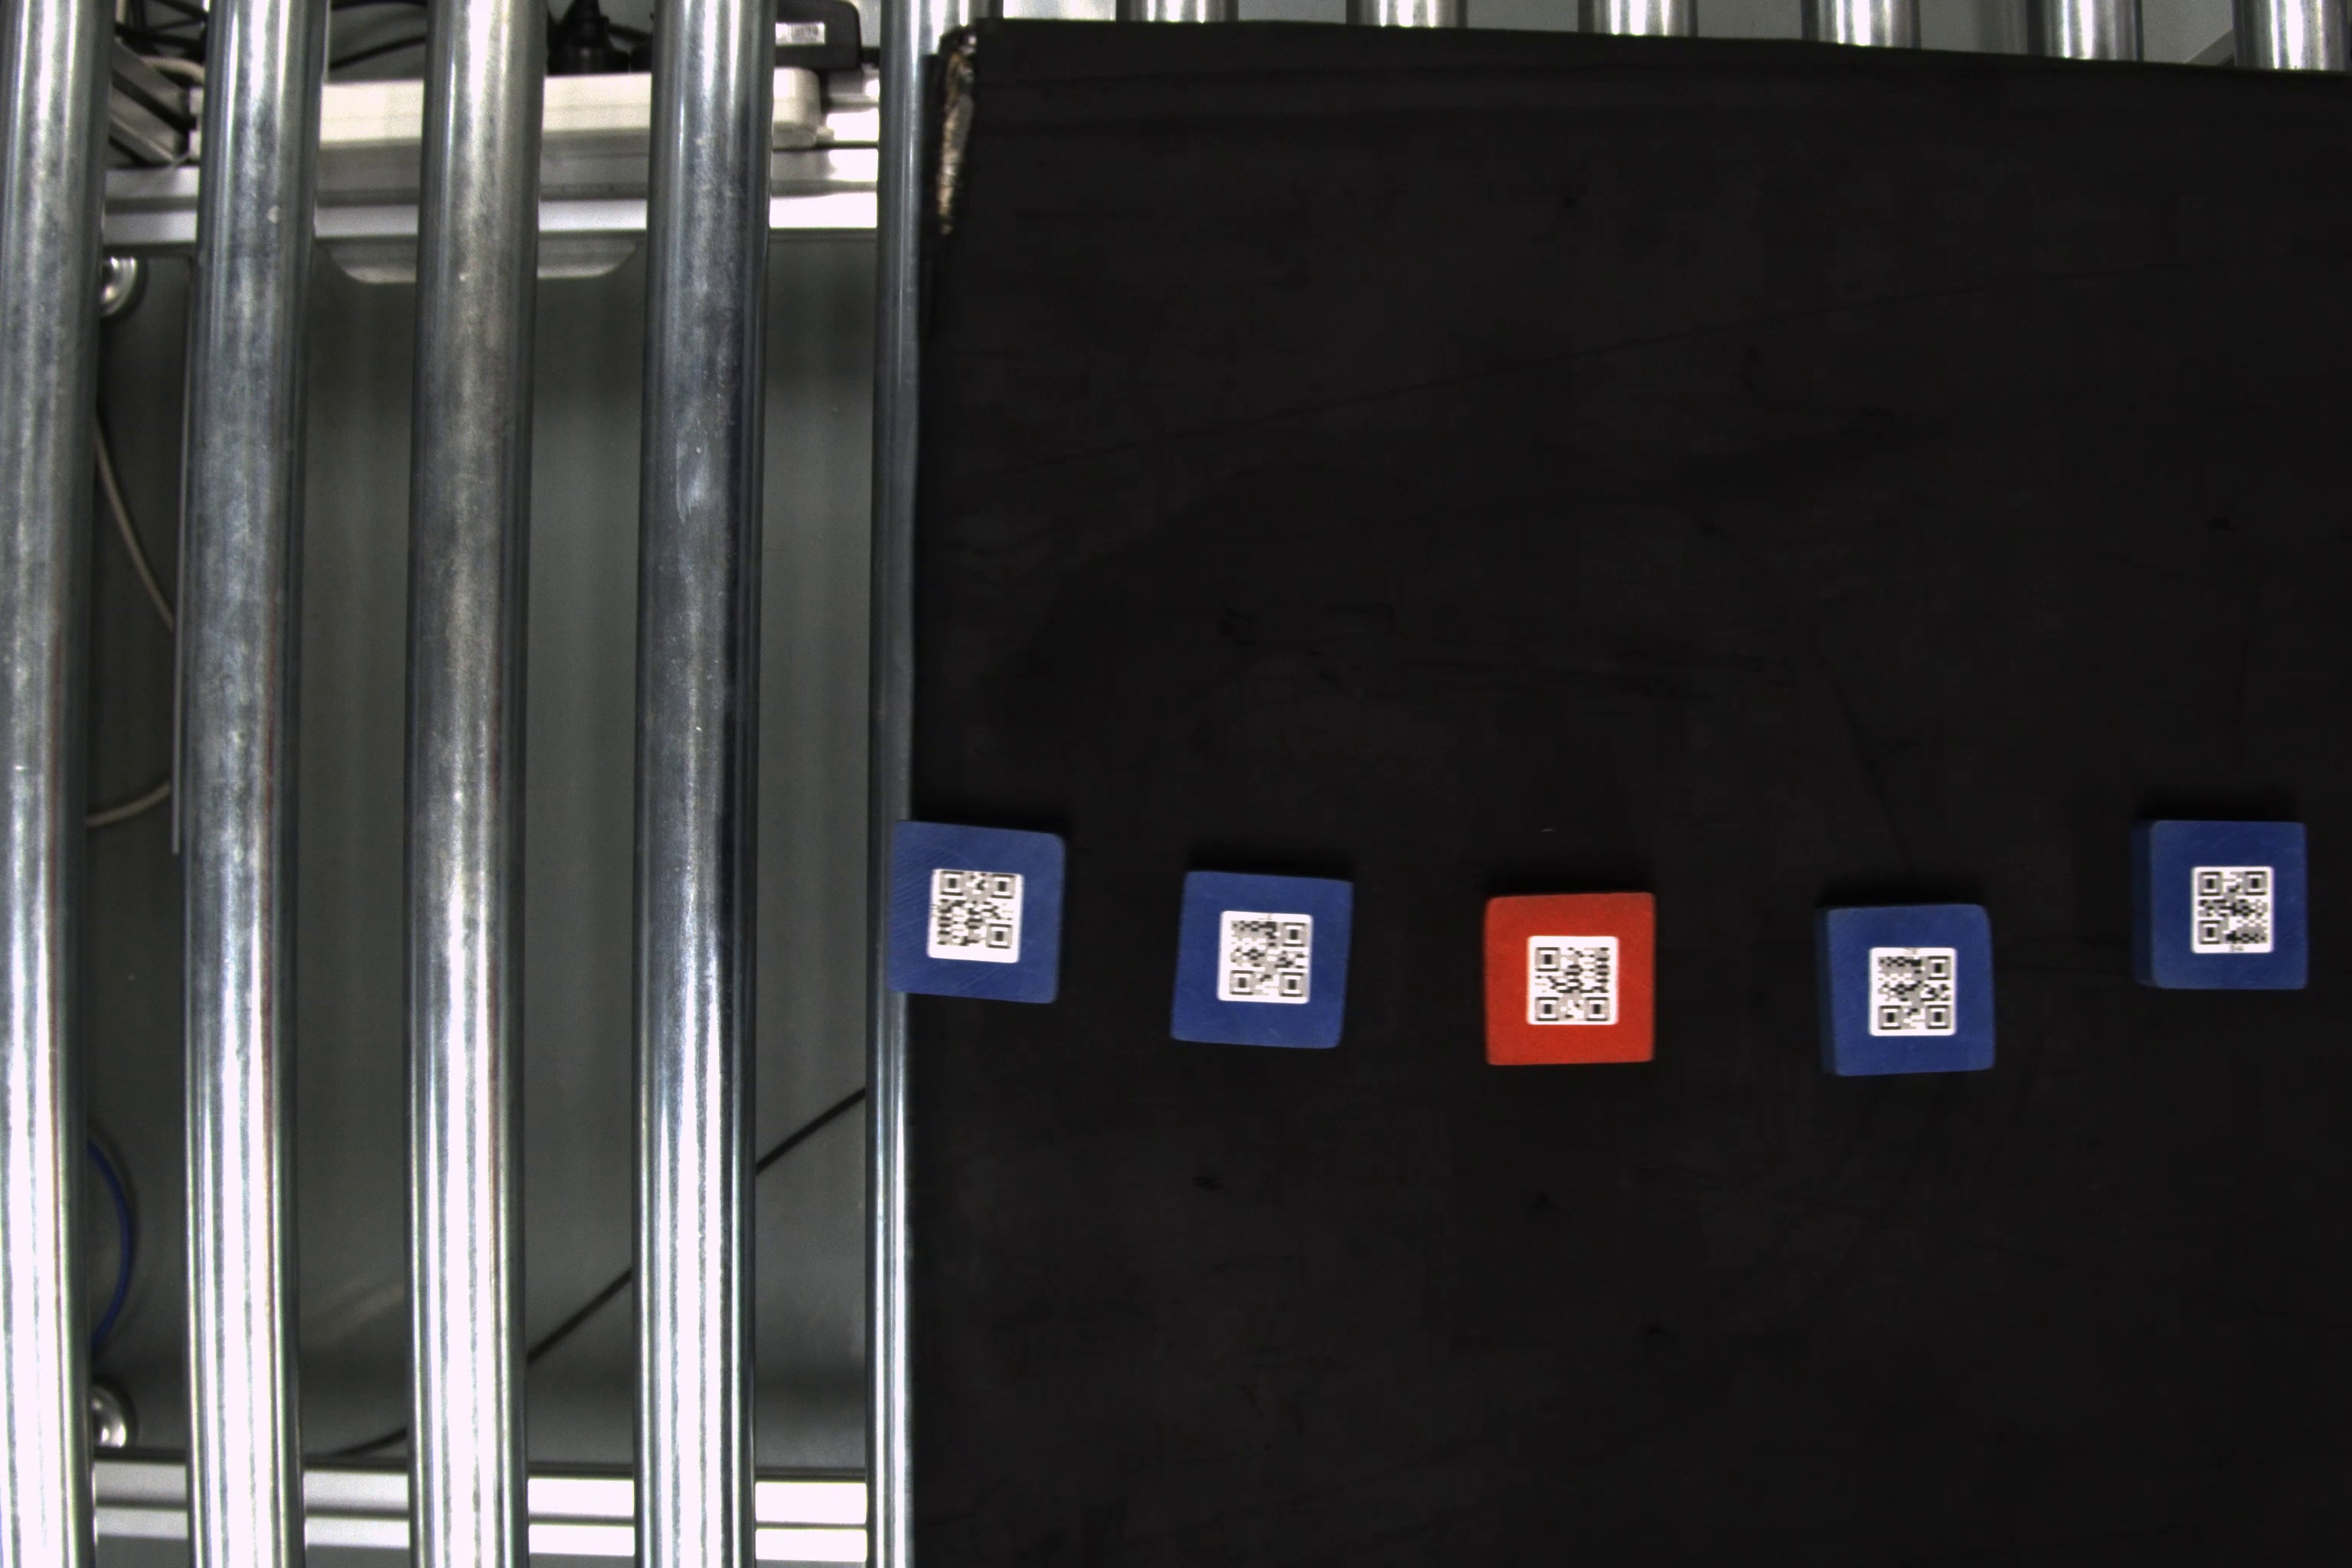wood: (1169, 870, 1361, 1057), (891, 814, 1071, 1008), (1811, 901, 2002, 1081), (2130, 817, 2317, 996), (1480, 896, 1659, 1069)
